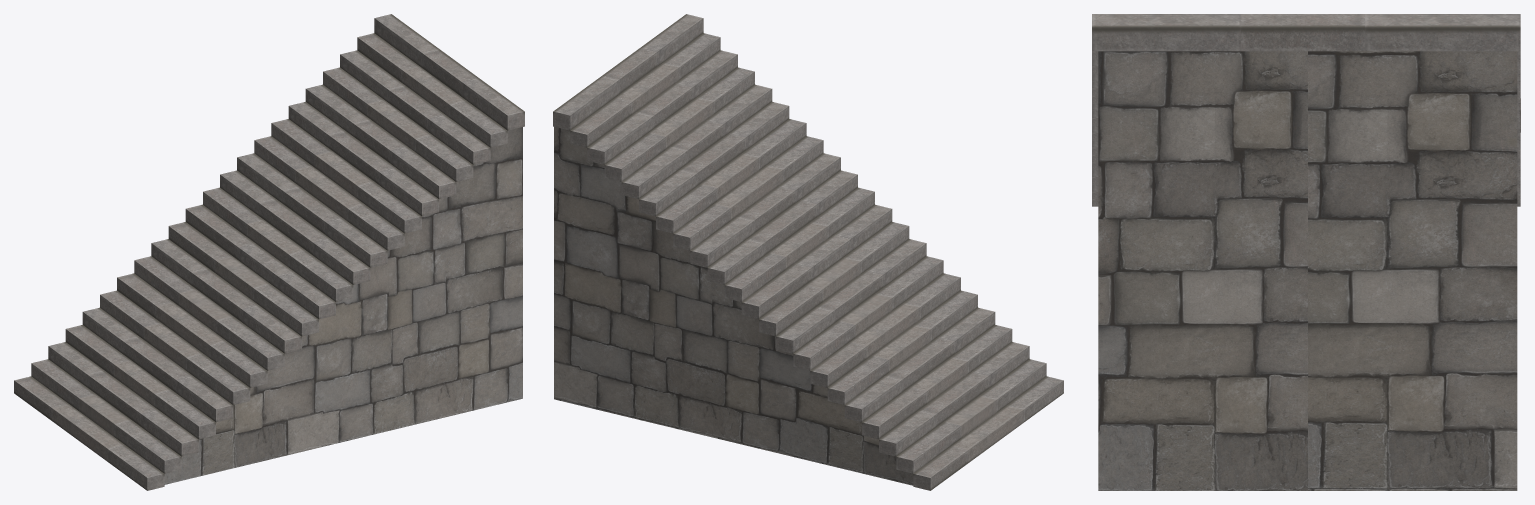
File: SM_CW_Stair_001.fbx
3 renders of one model, left to right at view 1: azimuth 30°, elevation 25°; view 2: azimuth 150°, elevation 25°; view 3: azimuth 270°, elevation 25°, orthographic. The views are drawn at different scales.
Parts seen in each view (by area): view 1: SM_CW_Stair_001; view 2: SM_CW_Stair_001; view 3: SM_CW_Stair_001.
Boxes of the visible parts, x1,y1,x2,y2 form: SM_CW_Stair_001: (14, 14, 524, 490); SM_CW_Stair_001: (553, 14, 1063, 490); SM_CW_Stair_001: (1092, 14, 1520, 490).
Bounding box in the file's own units: 818 × 501 × 598.
2 materials, 2 textured.
